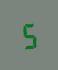five: (19, 20, 37, 49)
